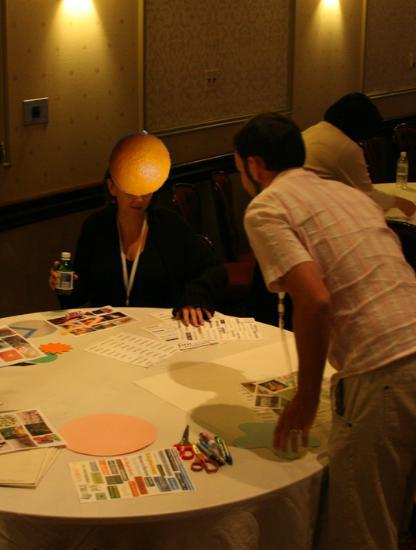Orange: (107, 130, 173, 196)
